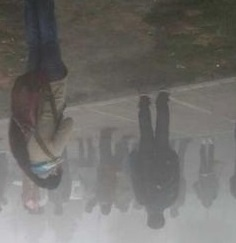person: (7, 1, 71, 189), (129, 93, 183, 230), (193, 135, 223, 210), (95, 126, 119, 219), (75, 134, 99, 215), (168, 137, 191, 220), (114, 133, 135, 214), (20, 169, 39, 214), (46, 184, 71, 214), (37, 185, 48, 214)
